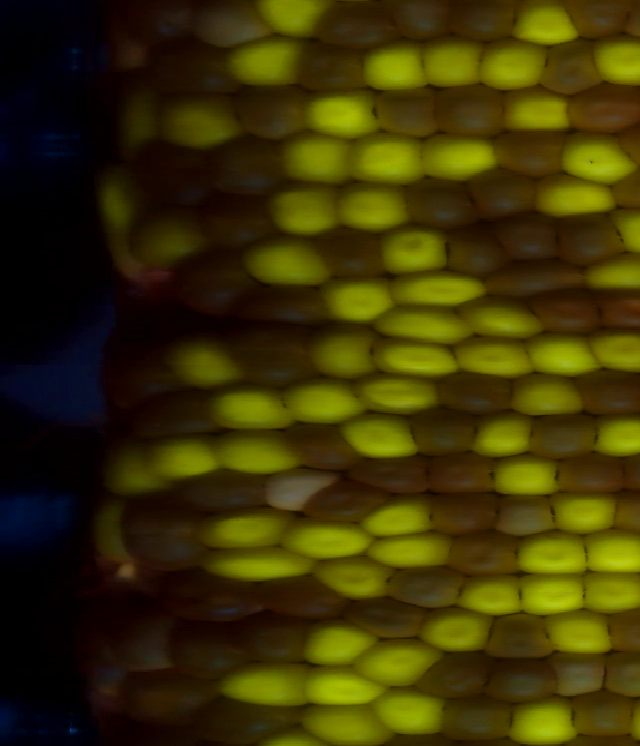fluorescent: (239, 240, 328, 291), (218, 662, 309, 711), (300, 91, 392, 139), (375, 303, 472, 348), (293, 703, 387, 746), (215, 430, 304, 475), (157, 93, 240, 141), (347, 135, 420, 188), (300, 665, 392, 707), (462, 296, 544, 343), (163, 343, 240, 393), (214, 383, 291, 432), (518, 530, 589, 583), (136, 203, 200, 261), (268, 185, 342, 235), (95, 499, 137, 587), (499, 88, 579, 134), (196, 506, 288, 546), (281, 133, 350, 186), (318, 556, 399, 601), (358, 41, 428, 93), (200, 549, 313, 581), (376, 688, 444, 741), (366, 371, 441, 419), (578, 523, 640, 581), (391, 272, 487, 309), (149, 432, 220, 482), (365, 527, 449, 569), (378, 334, 460, 377), (413, 128, 493, 172), (561, 133, 634, 181), (458, 339, 539, 382), (229, 38, 298, 88), (508, 697, 577, 745), (358, 644, 445, 682), (424, 35, 483, 91), (387, 224, 449, 277), (338, 181, 405, 230), (481, 37, 545, 88), (534, 332, 600, 381), (513, 375, 588, 418), (287, 381, 360, 425), (531, 176, 619, 212), (550, 491, 617, 538), (496, 449, 555, 502), (324, 280, 397, 322), (314, 329, 376, 378), (552, 604, 610, 656), (518, 572, 583, 618), (345, 416, 423, 454), (512, 3, 581, 45), (421, 608, 486, 651), (587, 35, 640, 87), (307, 622, 372, 664), (578, 572, 640, 616), (471, 413, 530, 457), (292, 525, 372, 557), (596, 319, 640, 376), (105, 455, 172, 492), (461, 575, 521, 616), (256, 3, 326, 38), (378, 501, 433, 539), (587, 251, 640, 290), (121, 94, 157, 149), (596, 416, 640, 456), (100, 174, 132, 228)
nonfluorescent: (119, 491, 202, 566), (126, 148, 213, 208), (119, 670, 208, 727), (161, 571, 266, 619), (173, 248, 249, 309), (229, 325, 313, 380), (202, 697, 303, 739), (98, 619, 172, 674), (282, 422, 360, 474), (433, 82, 505, 137), (168, 628, 241, 682), (128, 388, 213, 434), (265, 575, 344, 624), (313, 225, 386, 278), (213, 139, 284, 193), (341, 595, 419, 644), (436, 371, 517, 418), (558, 211, 625, 267), (488, 208, 560, 260), (235, 86, 308, 137), (436, 696, 514, 743), (304, 40, 368, 97), (161, 44, 236, 91), (576, 367, 640, 422), (179, 469, 265, 509), (413, 654, 491, 698), (400, 176, 473, 223), (538, 43, 602, 96), (363, 91, 439, 135), (191, 4, 272, 45), (571, 81, 640, 129), (551, 454, 628, 497), (565, 692, 636, 738), (391, 567, 465, 611), (425, 453, 499, 496), (320, 7, 397, 48), (476, 166, 539, 216), (497, 129, 563, 176), (302, 482, 379, 522), (486, 260, 579, 293), (442, 3, 514, 45), (483, 660, 560, 699), (450, 534, 523, 575), (414, 412, 482, 456), (205, 198, 271, 243), (247, 616, 312, 661), (536, 290, 598, 337), (529, 417, 598, 459), (426, 496, 494, 538), (362, 453, 426, 496), (487, 619, 561, 656), (447, 230, 510, 272), (249, 286, 324, 320), (498, 498, 560, 537), (551, 651, 608, 693), (570, 2, 636, 38), (589, 287, 640, 332), (393, 1, 450, 37), (604, 649, 640, 697), (604, 607, 640, 651), (609, 170, 640, 214)
